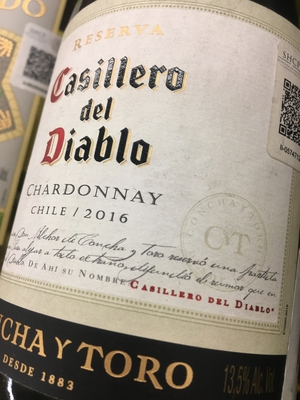casillero del diablo chardonnay: (5, 1, 297, 400)
